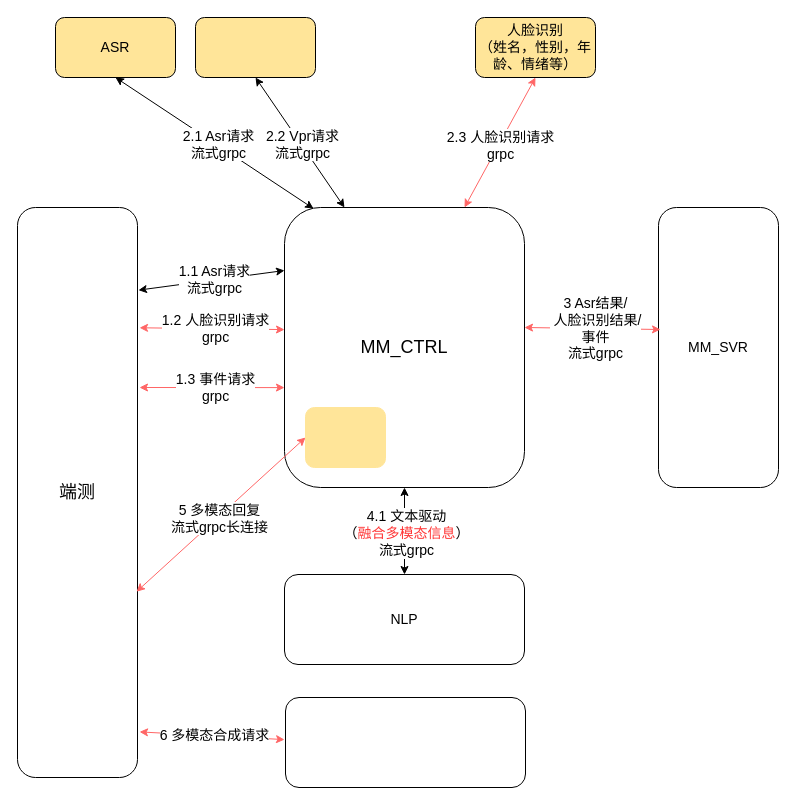
This 796x805 diagram has some shape labels left out. Here are the shapes that lost their labels. From the top down, the centre of each, then its label:
point (255, 47): 声纹识别 （姓名）
point (345, 437): 推送服务
point (405, 742): MM_Synthesis
